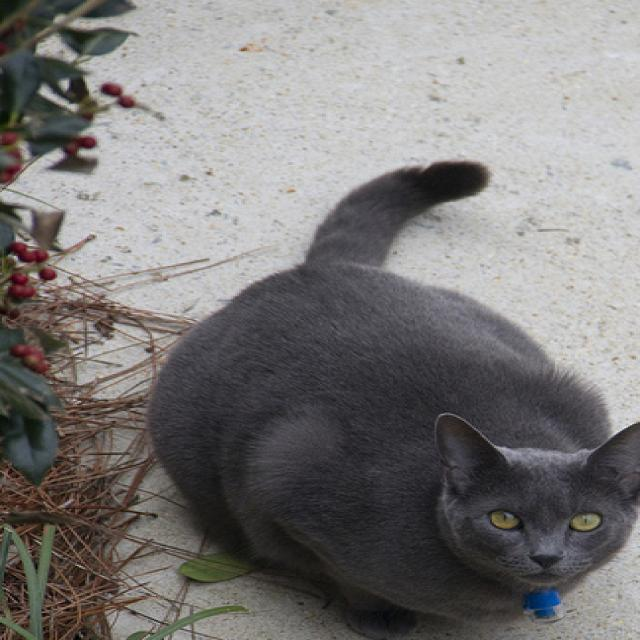Russian Blue: (146, 155, 640, 640)
